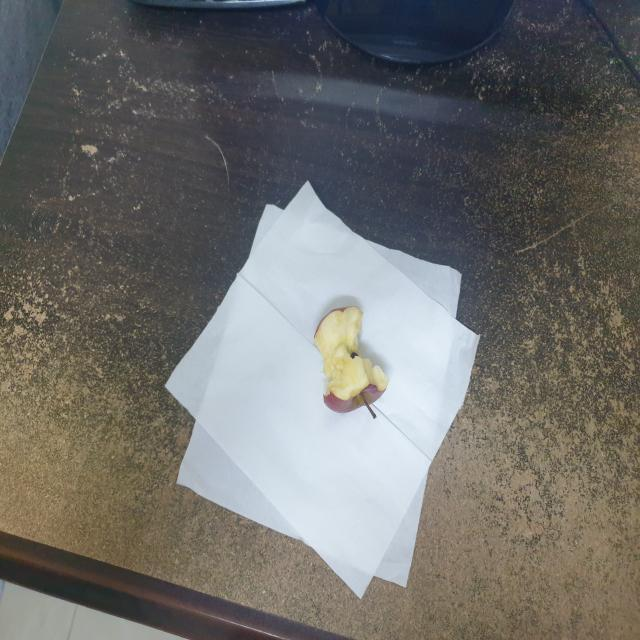apple: (306, 294, 398, 436)
